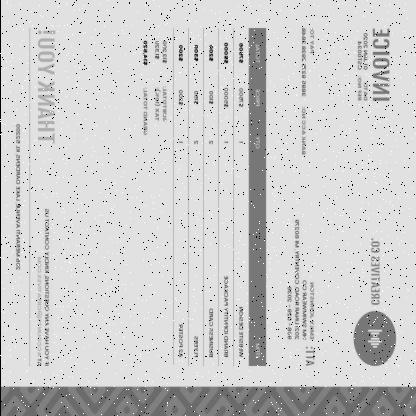Paragraph: (283, 215, 318, 371), (296, 23, 318, 159), (355, 26, 391, 104), (140, 38, 168, 138), (34, 206, 50, 370), (35, 29, 57, 148), (14, 123, 20, 272)
Table: (172, 29, 266, 367)
